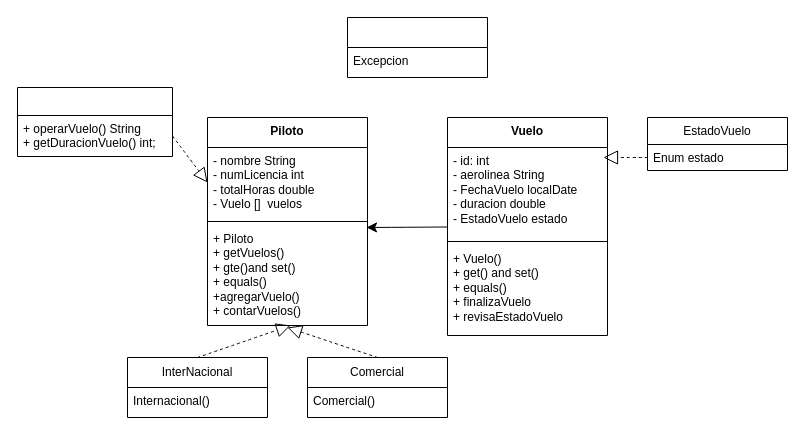
This 805x438 diagram has some shape labels left out. Here are the shapes that lost their labels. From the top down, the box of each, then its label:
(346, 16, 488, 78): VueloException
(16, 86, 172, 156): IVuelo
